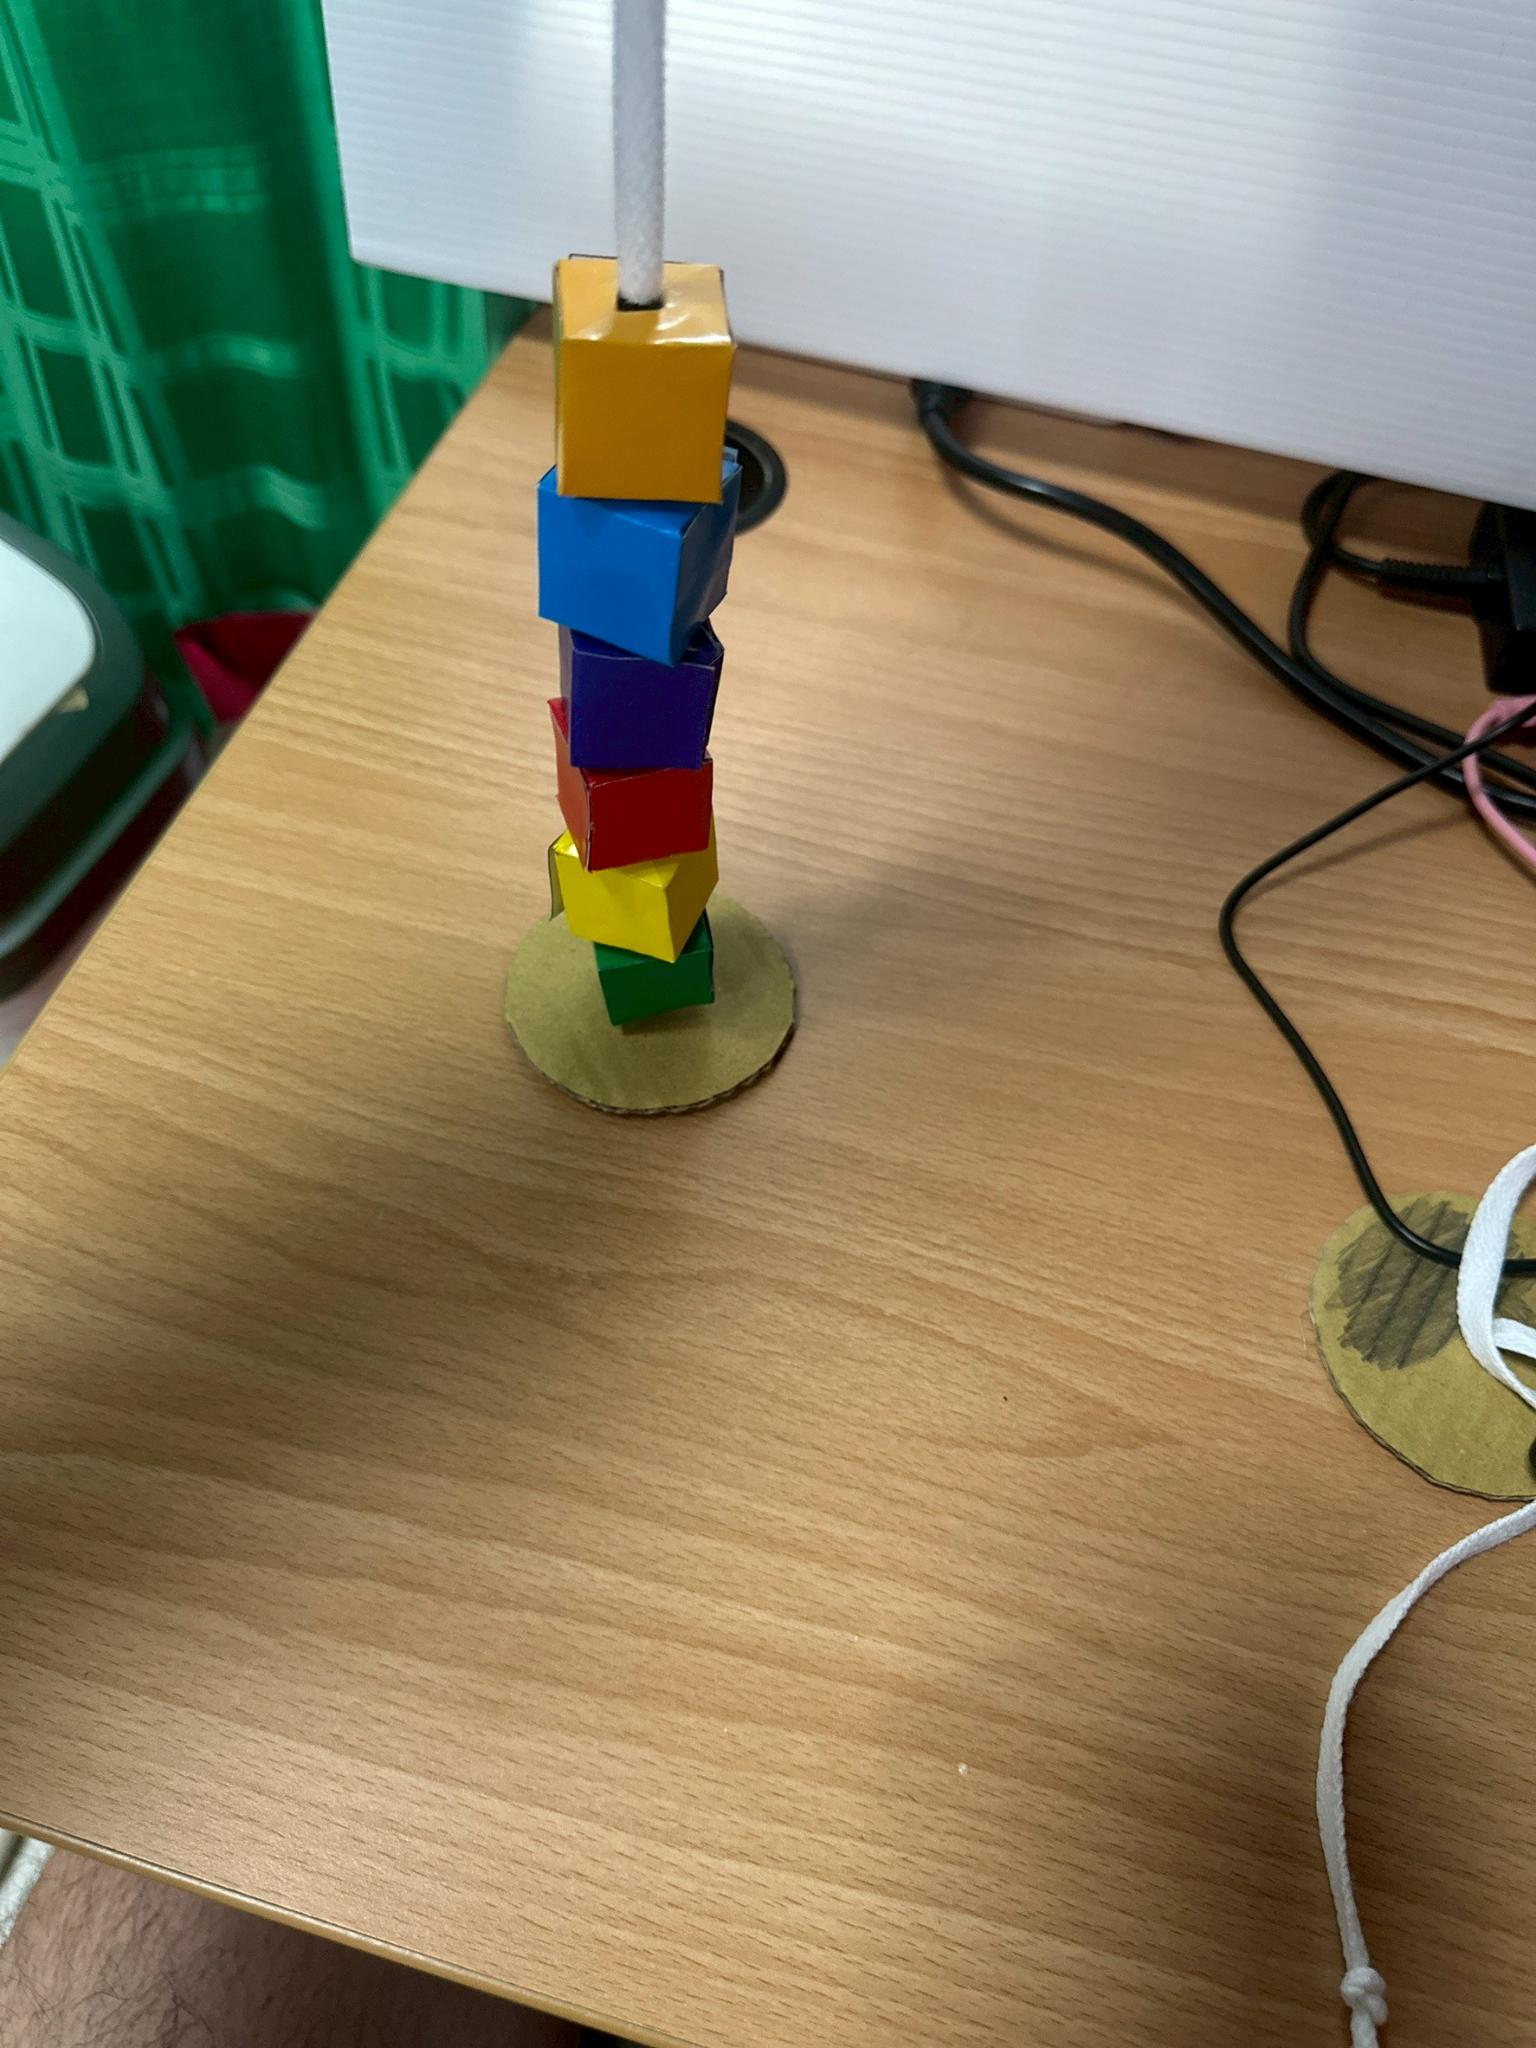base: (507, 895, 794, 1114)
